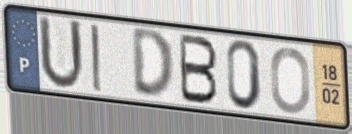0: (224, 38, 263, 113)
B: (178, 31, 220, 107)
D: (129, 28, 177, 103)
I: (88, 21, 105, 95)
O: (269, 45, 312, 116)
U: (36, 12, 87, 93)
